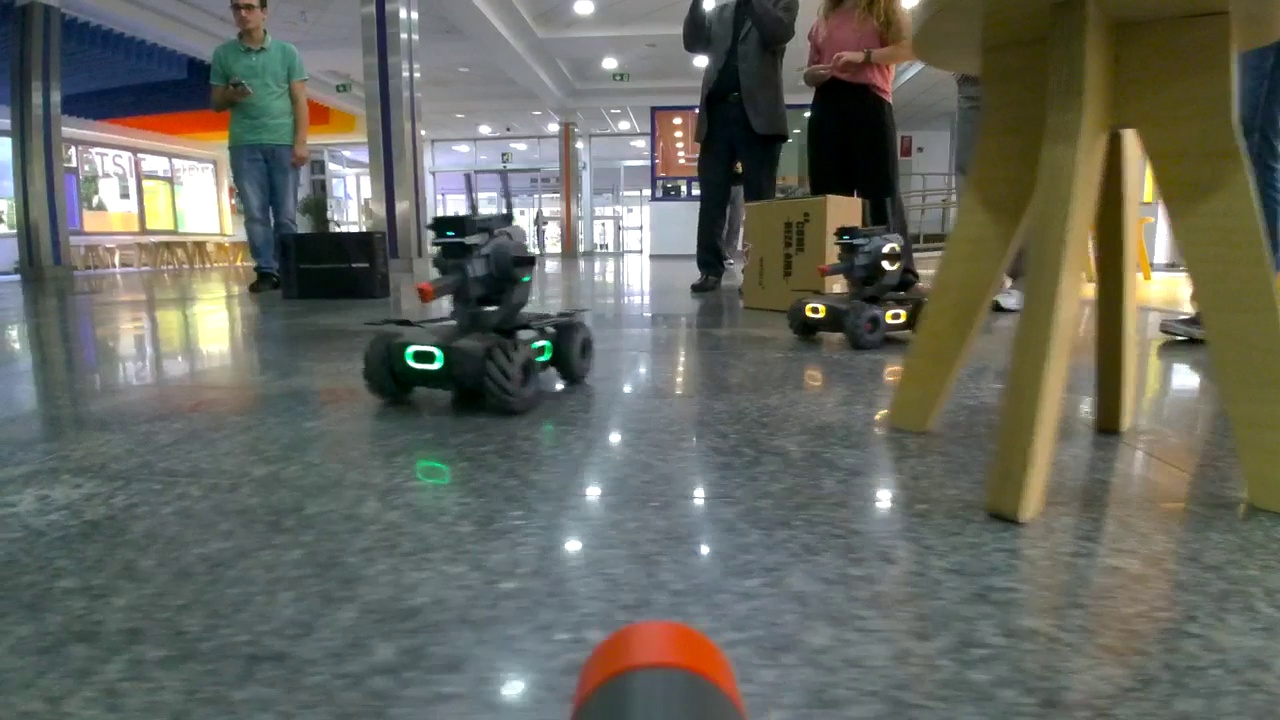robot: (360, 211, 598, 419), (787, 224, 929, 350)
